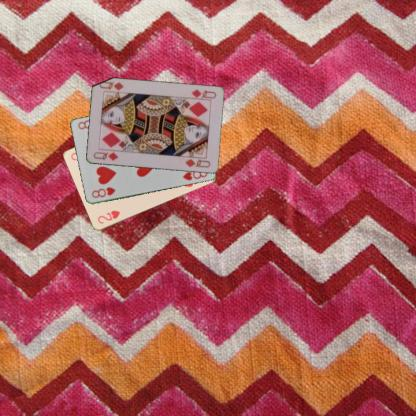2h: (95, 208, 121, 225)
8h: (89, 184, 117, 200)
Qd: (187, 86, 217, 102), (91, 150, 119, 162)
